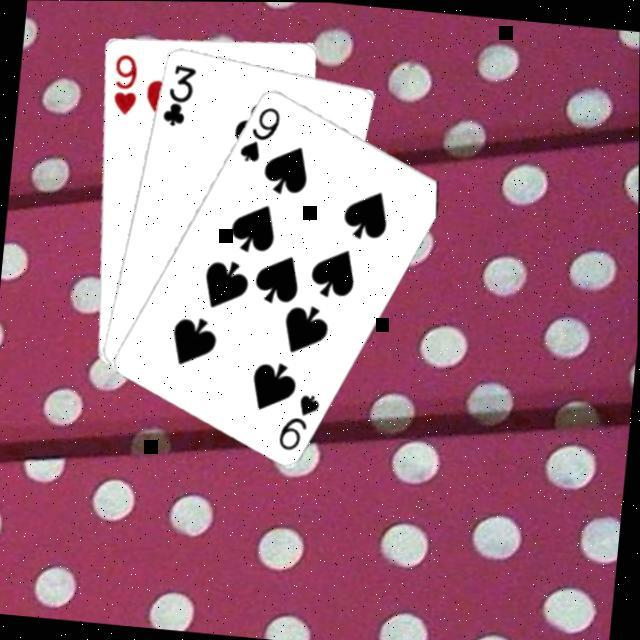3C: (159, 61, 201, 131)
9H: (108, 51, 144, 119)
9S: (237, 102, 286, 168), (276, 390, 324, 456)
